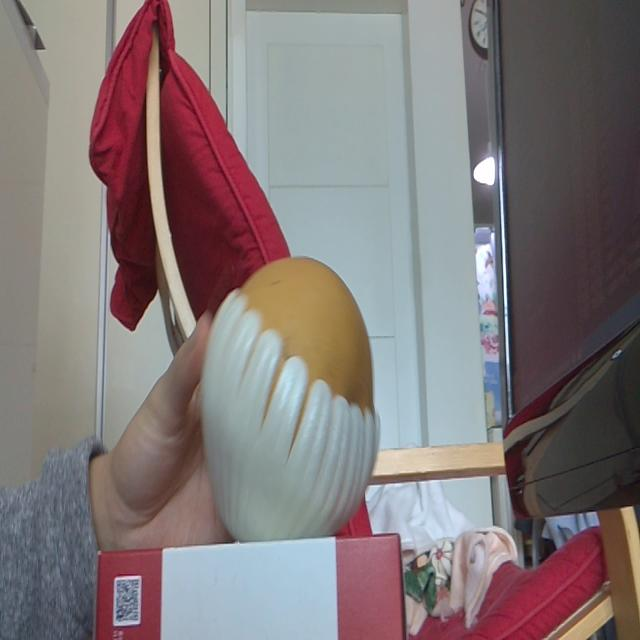pear: (200, 255, 386, 537)
